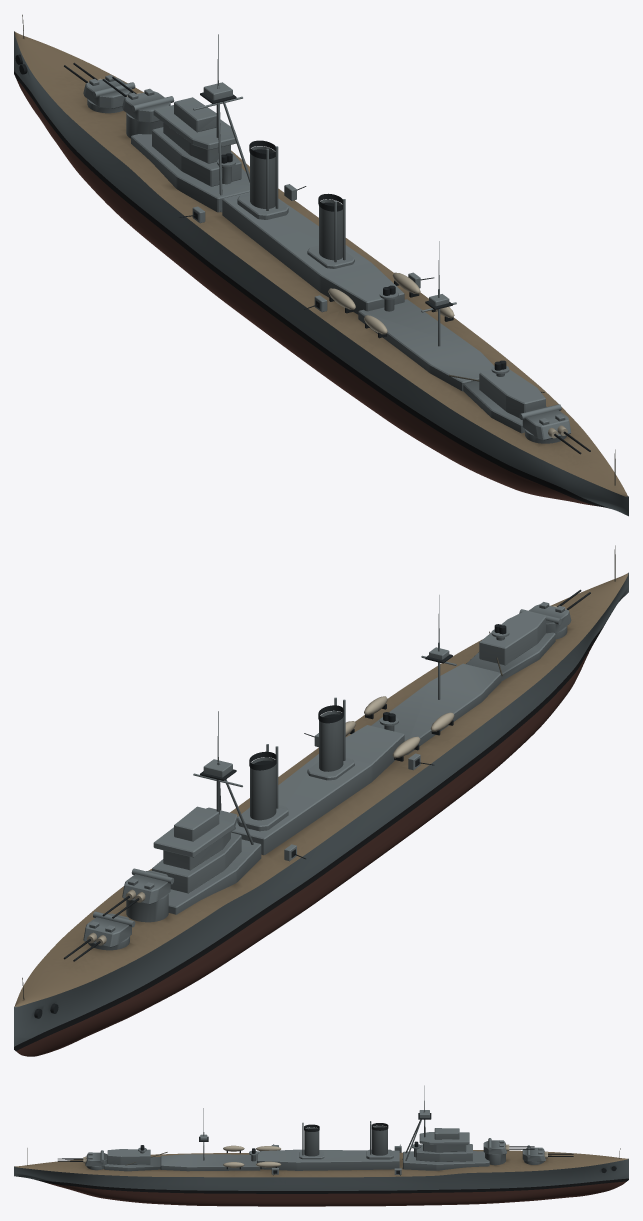
File: aoba.glb
3 renders of one model, top to bottom at view 1: azimuth 30°, elevation 25°; view 2: azimuth 150°, elevation 25°; view 3: azimuth 270°, elevation 25°, orthographic. The views are drawn at different scales.
Visible parts, largest first — view 1: aoba; view 2: aoba; view 3: aoba.
Boxes of the visible parts, x1,y1,x2,y2 form: aoba: (14, 14, 628, 516); aoba: (14, 545, 628, 1056); aoba: (14, 1085, 628, 1206).
Bounding box in the file's own units: 22.59 × 37.16 × 185.
